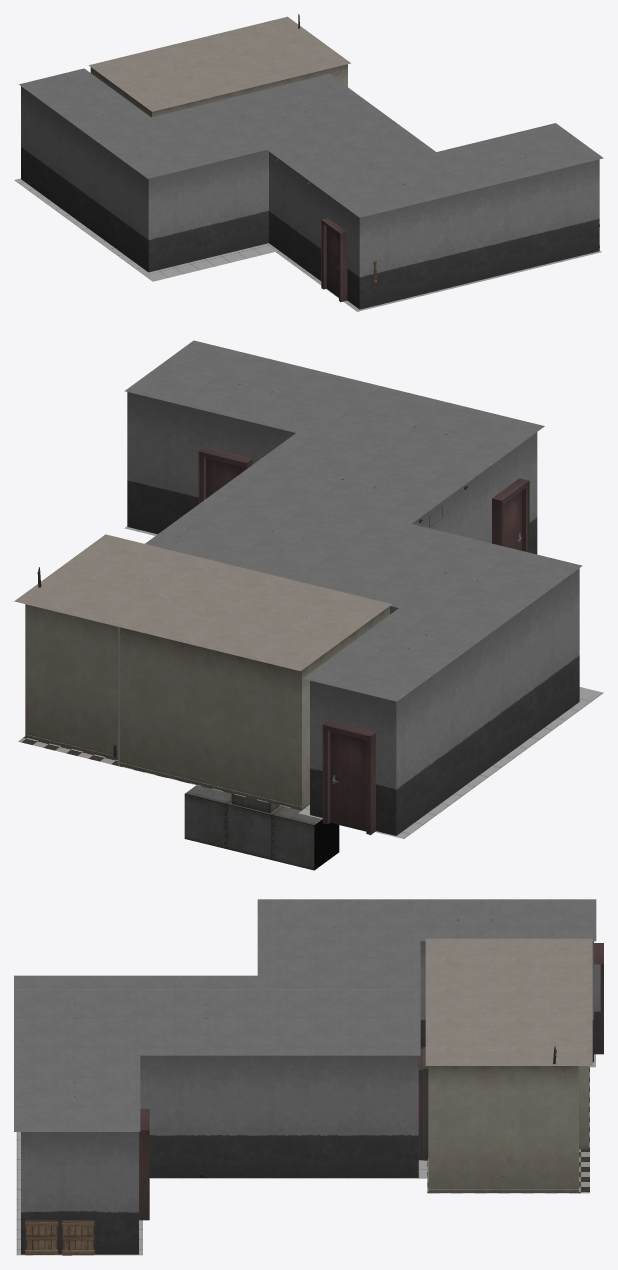
File: control_room.glb
3 renders of one model, top to bottom at view 1: azimuth 30°, elevation 25°; view 2: azimuth 150°, elevation 25°; view 3: azimuth 270°, elevation 25°, orthographic. The views are drawn at different scales.
Parts seen in each view (by area): view 1: IS4_P1_TechoAntesala, IS4_P1_Antesala_Pared_2, ControlRoom_Ceiling, IS4_P1_Antesala_Pared_5, IS4_P1_Antesala_Pared_4, IS4_P1_Antesala_Pared_3, IS4_P1_SueloAntesala, ControlRoom_Wall_1, P1_Puerta_Granate__1_, IS4_P1_PuertaControl_2, ControlRoom_Wall_4; view 2: IS4_P1_TechoAntesala, ControlRoom_Wall_3, ControlRoom_Ceiling, IS4_P1_Antesala_Pared_5, IS4_P1_Antesala_Pared_10, ControlRoom_Vent, IS4_P1_Antesala_Pared_6, IS4_P1_Antesala_Pared_3, IS4_P1_PuertaControl_1, P1_Puerta_Granate, IS4_P1_SueloAntesala, ControlRoom_Wall_4 (+5 smaller); view 3: IS4_P1_TechoAntesala, IS4_P1_Antesala_Pared_9, ControlRoom_Ceiling, ControlRoom_Wall_2, IS4_P1_Antesala_Pared_1, IS4_P1_SueloAntesala, P1_Puerta_Granate__2_, WoodCrate_4, WoodCrate_5, IS4_P1_Antesala_Pared_7, ControlRoom_Wall_3, ControlRoom_Floor (+4 smaller).
Boxes of the visible parts, bbox=[...] form: IS4_P1_TechoAntesala: bbox=[19, 68, 603, 217]; IS4_P1_Antesala_Pared_2: bbox=[359, 159, 599, 309]; ControlRoom_Ceiling: bbox=[89, 16, 350, 111]; IS4_P1_Antesala_Pared_5: bbox=[21, 86, 148, 272]; IS4_P1_Antesala_Pared_4: bbox=[148, 150, 268, 272]; IS4_P1_Antesala_Pared_3: bbox=[269, 151, 359, 309]; IS4_P1_SueloAntesala: bbox=[14, 178, 601, 311]; ControlRoom_Wall_1: bbox=[152, 64, 347, 116]; P1_Puerta_Granate__1_: bbox=[321, 218, 347, 302]; IS4_P1_PuertaControl_2: bbox=[326, 227, 338, 297]; ControlRoom_Wall_4: bbox=[90, 67, 151, 117]; IS4_P1_TechoAntesala: bbox=[124, 340, 582, 701]; ControlRoom_Wall_3: bbox=[25, 604, 301, 810]; ControlRoom_Ceiling: bbox=[14, 534, 391, 671]; IS4_P1_Antesala_Pared_5: bbox=[396, 568, 579, 835]; IS4_P1_Antesala_Pared_10: bbox=[127, 392, 295, 534]; ControlRoom_Vent: bbox=[184, 785, 339, 870]; IS4_P1_Antesala_Pared_6: bbox=[310, 680, 396, 835]; IS4_P1_Antesala_Pared_3: bbox=[412, 432, 537, 554]; IS4_P1_PuertaControl_1: bbox=[330, 731, 366, 831]; P1_Puerta_Granate: bbox=[322, 721, 375, 835]; IS4_P1_SueloAntesala: bbox=[124, 526, 603, 838]; ControlRoom_Wall_4: bbox=[302, 606, 389, 809]; IS4_P1_TechoAntesala: bbox=[14, 899, 596, 1131]; IS4_P1_Antesala_Pared_9: bbox=[140, 1055, 418, 1177]; ControlRoom_Ceiling: bbox=[425, 938, 592, 1065]; ControlRoom_Wall_2: bbox=[428, 1066, 578, 1192]; IS4_P1_Antesala_Pared_1: bbox=[21, 1132, 138, 1254]; IS4_P1_SueloAntesala: bbox=[16, 1054, 595, 1255]; P1_Puerta_Granate__2_: bbox=[139, 1109, 149, 1220]; WoodCrate_4: bbox=[61, 1220, 94, 1255]; WoodCrate_5: bbox=[25, 1220, 58, 1255]; IS4_P1_Antesala_Pared_7: bbox=[420, 941, 593, 1062]; ControlRoom_Wall_3: bbox=[579, 1066, 588, 1149]; ControlRoom_Floor: bbox=[427, 1067, 589, 1193].
Bounding box in the file's own units: 12.28 × 4.85 × 12.98.
Materials: 10 (10 with a texture image).
